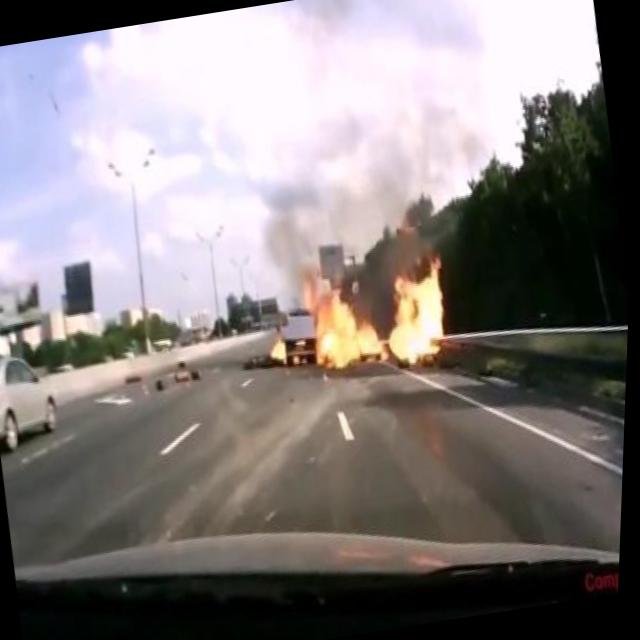fire: (300, 247, 463, 382), (267, 330, 292, 364)
